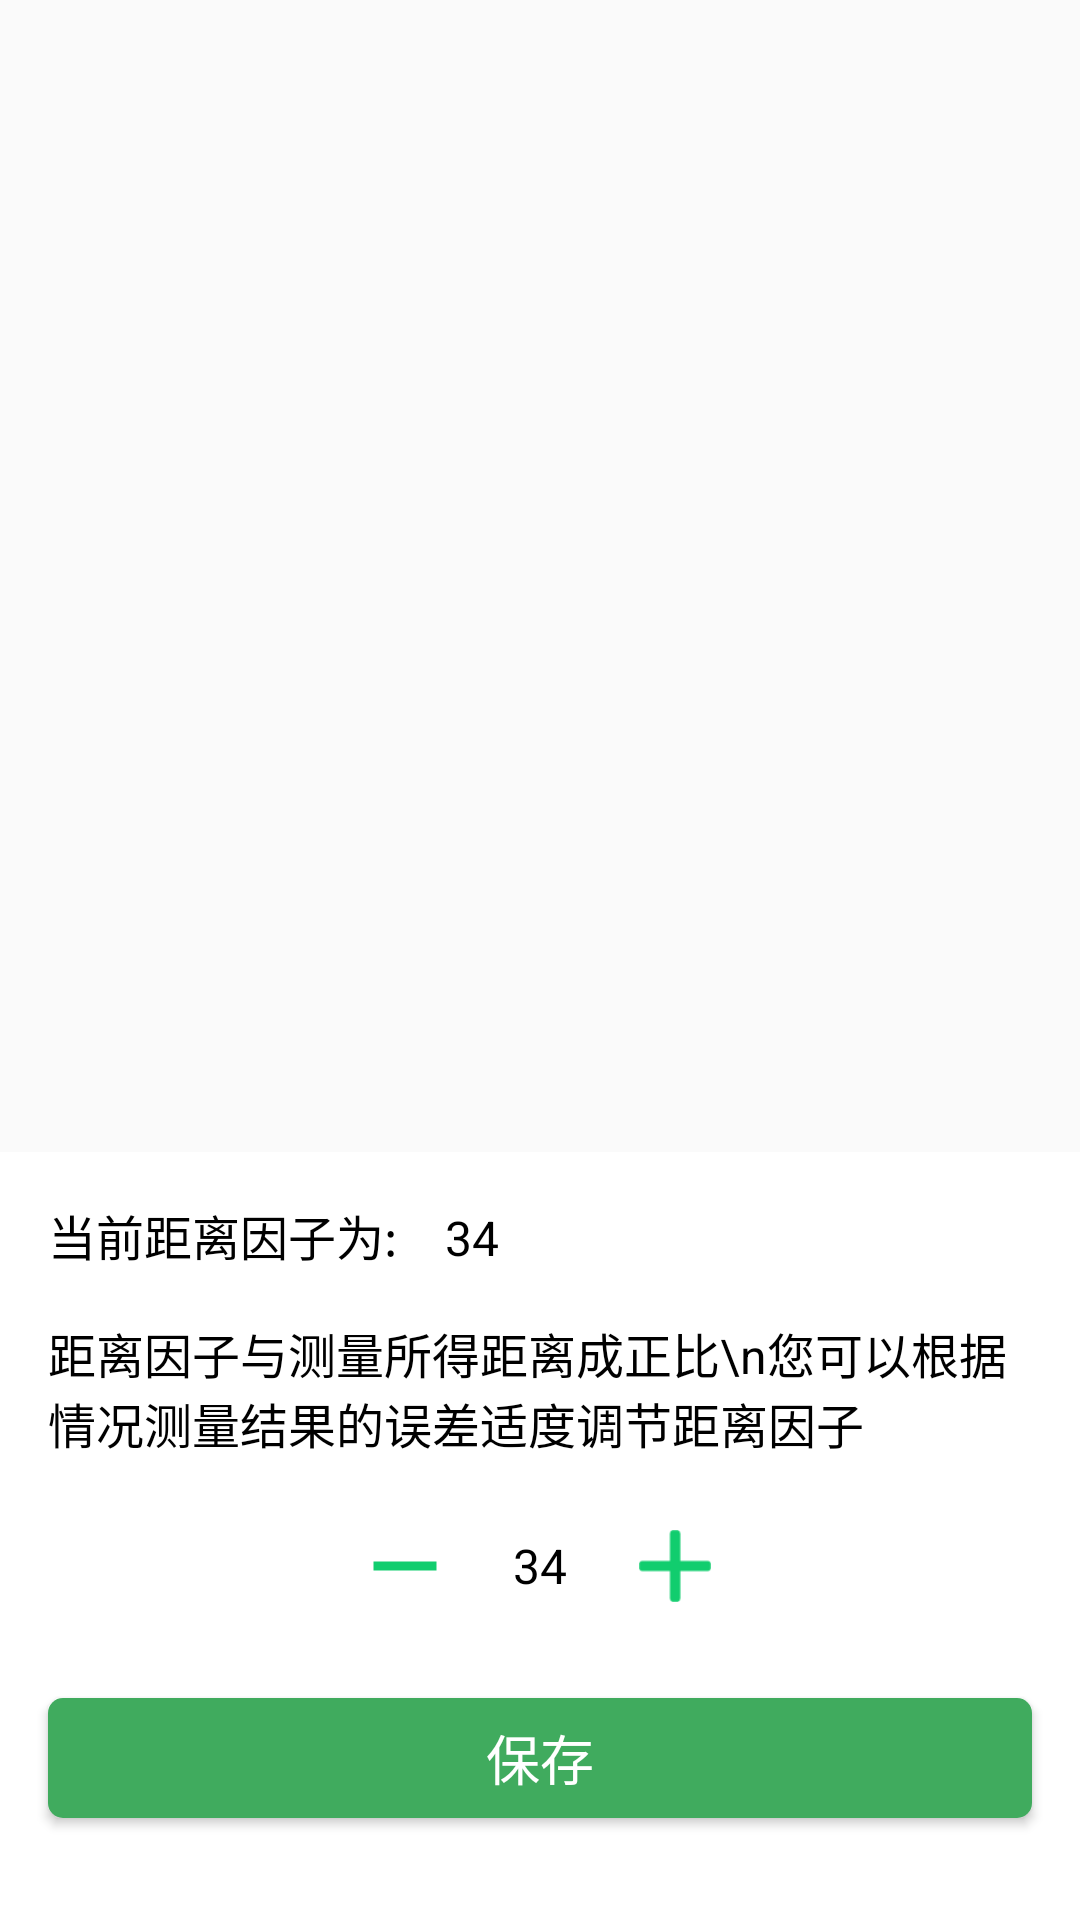

Icon bounding boxes for this 1080px×1920px phone screenshot, format (x1, y1, x2, y2):
increase: (639, 1530, 711, 1602)
